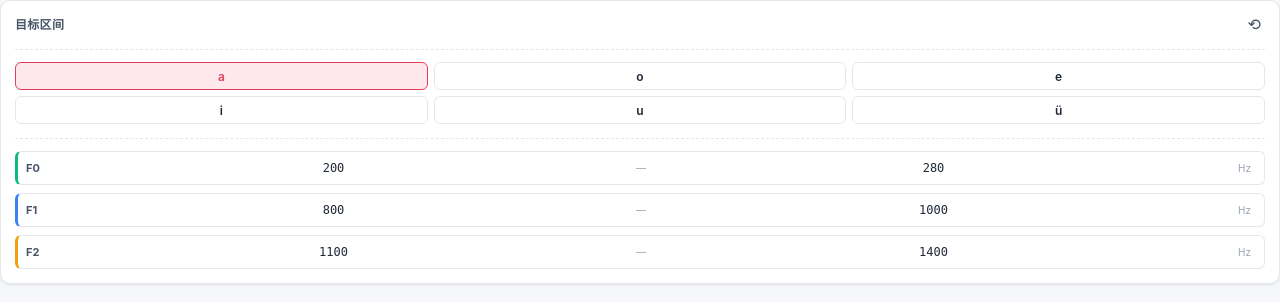
Test: desktop target behavior › clamps F1下限 on blur with the same rule
The width and height of the screenshot is (1280, 302).
Replace the text in the number field named "F1下限" with "1200" at (341, 210), box [52,199,630,221]
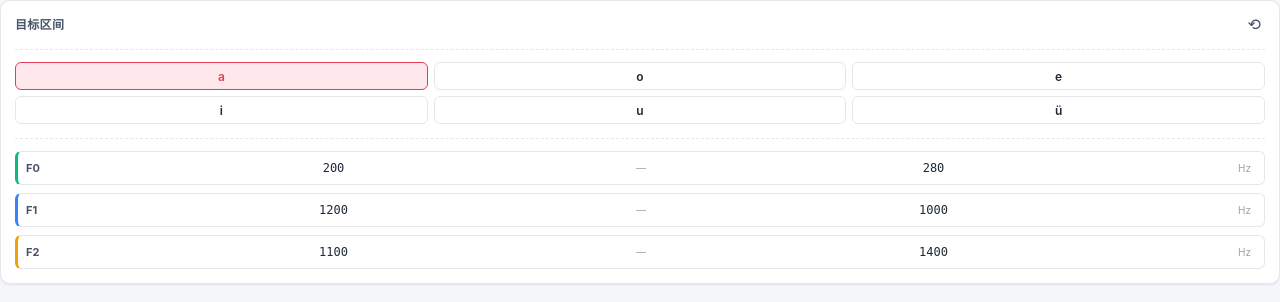
Leave the number field named "F1下限", box [52,199,630,221]
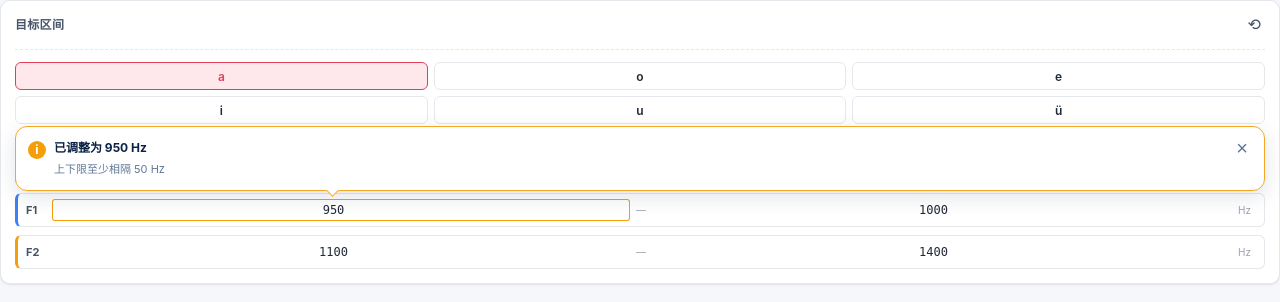
Now the number field named "F1下限" holds "950", box [52,199,630,221]
Now the message "i 已调整为 950 Hz 上下限至少相隔 50 Hz ×" is shown, box [15,126,1265,191]
